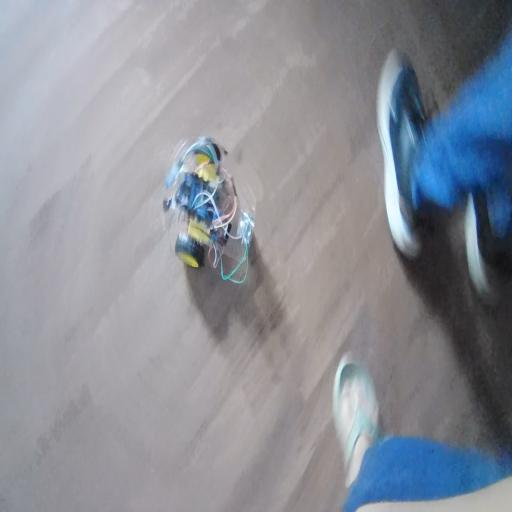car: (145, 60, 271, 313)
